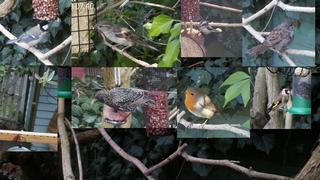dunnock: (246, 20, 295, 56)
goldfinch: (266, 87, 291, 114)
great tit: (5, 20, 52, 54)
long tailed tit: (196, 20, 222, 38)
robin: (181, 87, 230, 132)
sparrow: (92, 20, 161, 58)
starling: (92, 87, 157, 112)
